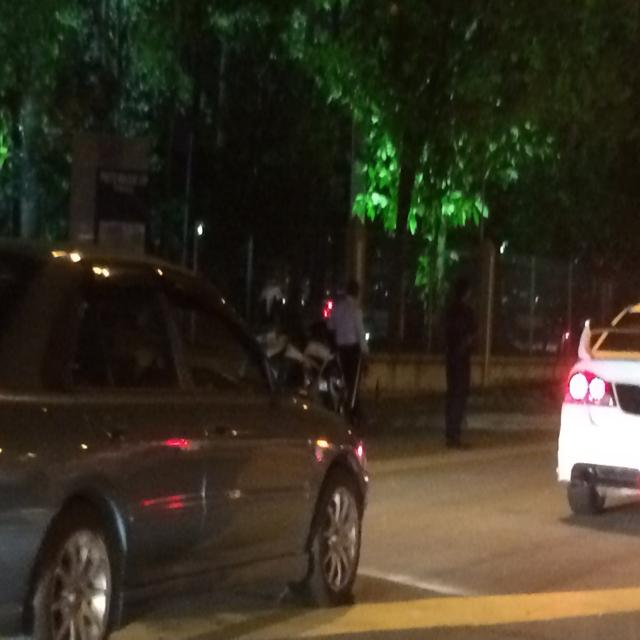People: (442, 259, 498, 449), (319, 266, 373, 408)
car: (3, 233, 356, 623), (534, 278, 640, 496)
